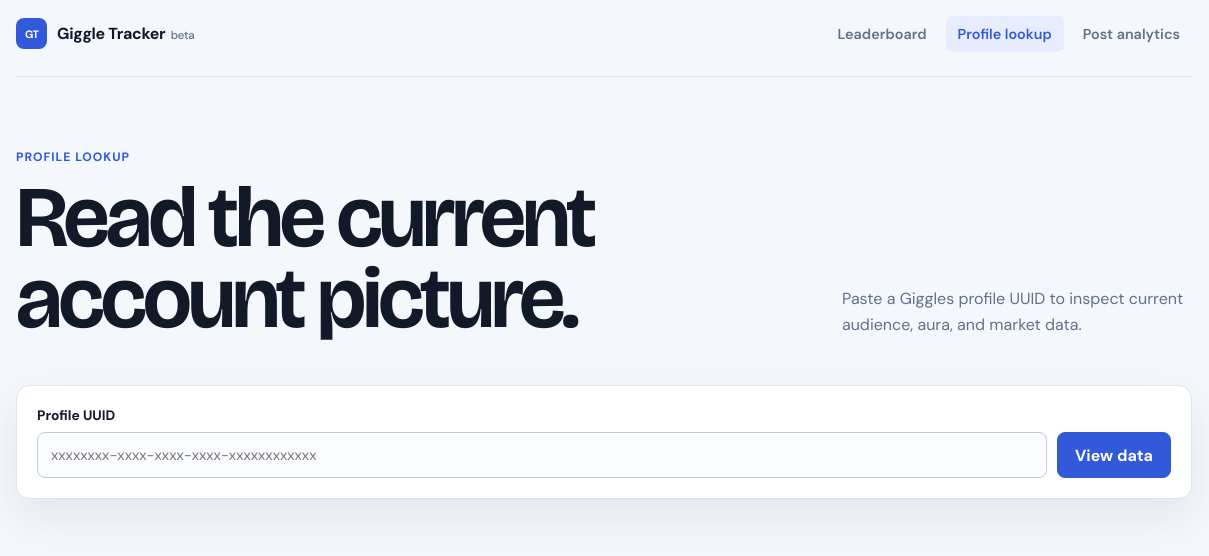
tracker routes › rejects malformed UUID input before making a request
The image size is (1209, 556).
Step 1. Type "not-a-uuid" into the field labelled "Profile UUID" → (542, 455), box [37,432,1047,478]
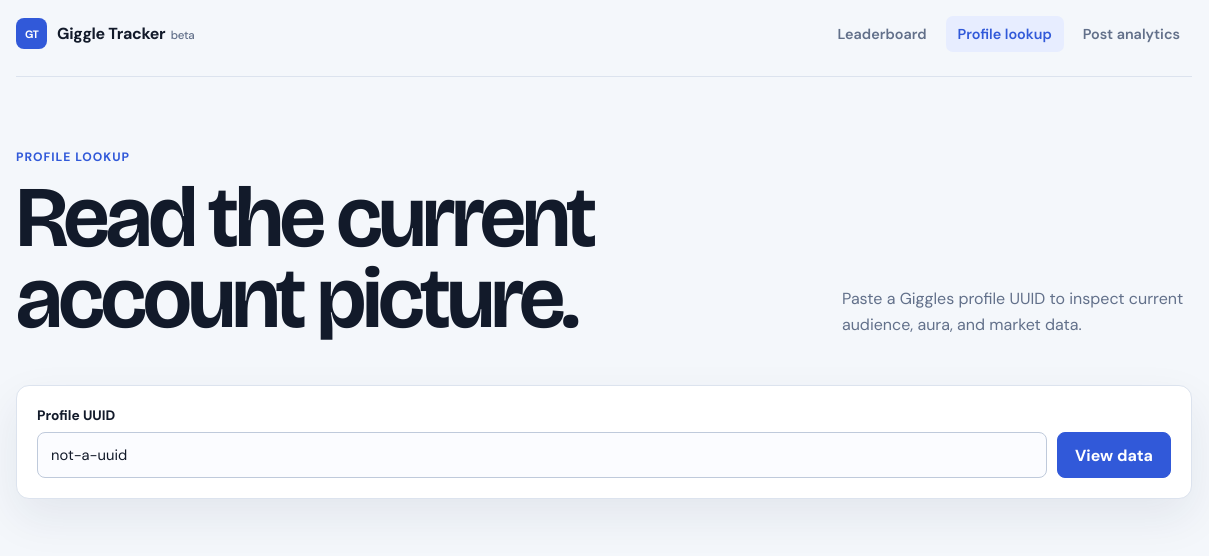
Step 2. Click the button "View data" → (1114, 455), box [1057,432,1171,478]
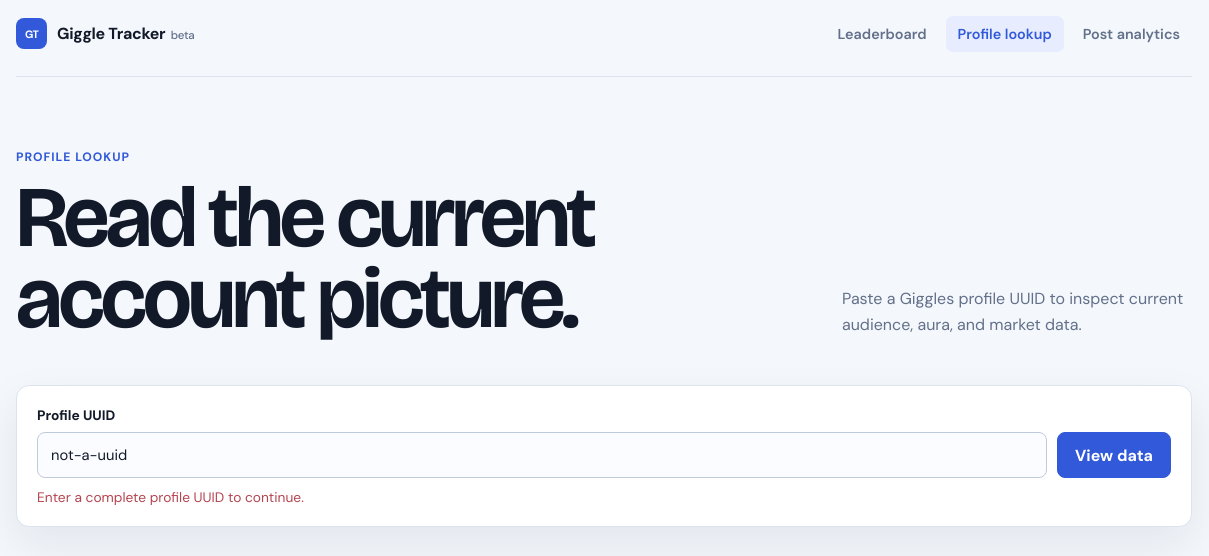
Result: the text "Enter a complete profile UUID to continue." is shown at [37,488,304,506]
